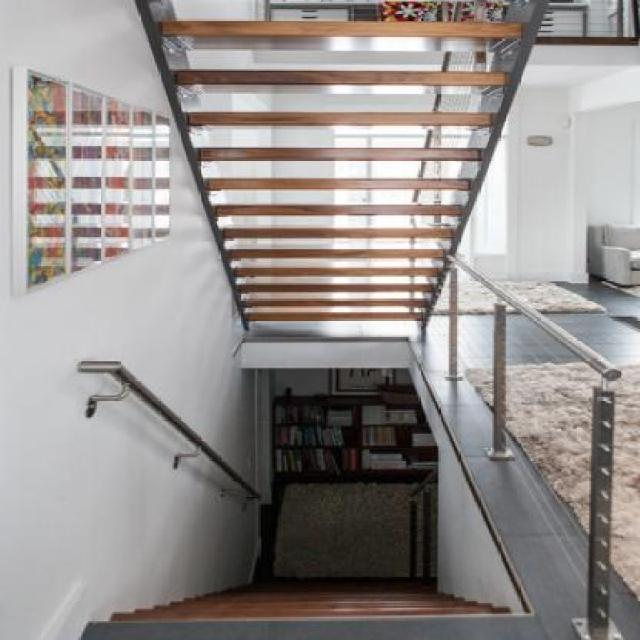stair: (97, 0, 508, 358)
